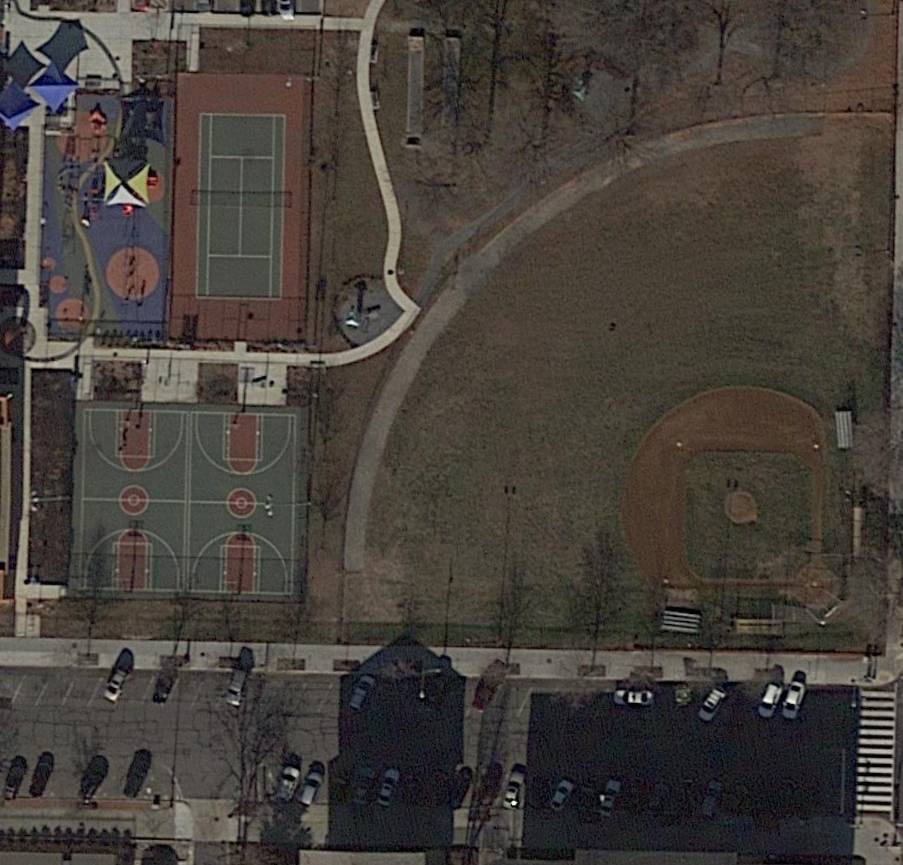baseball diamond: (620, 389, 825, 584)
basketball court: (186, 411, 298, 596), (78, 411, 190, 593)
ship: (74, 757, 110, 806), (122, 755, 152, 799), (27, 755, 55, 801), (350, 767, 378, 807), (1, 763, 28, 802)
small vehicle: (695, 685, 731, 724), (346, 672, 378, 713), (272, 765, 305, 804), (756, 678, 785, 719), (780, 679, 809, 720), (223, 669, 254, 707), (501, 770, 528, 812), (596, 778, 622, 820), (101, 667, 131, 703), (297, 770, 325, 808), (549, 778, 577, 816), (377, 767, 402, 807), (614, 688, 655, 708)
tennis court: (195, 114, 287, 301)
